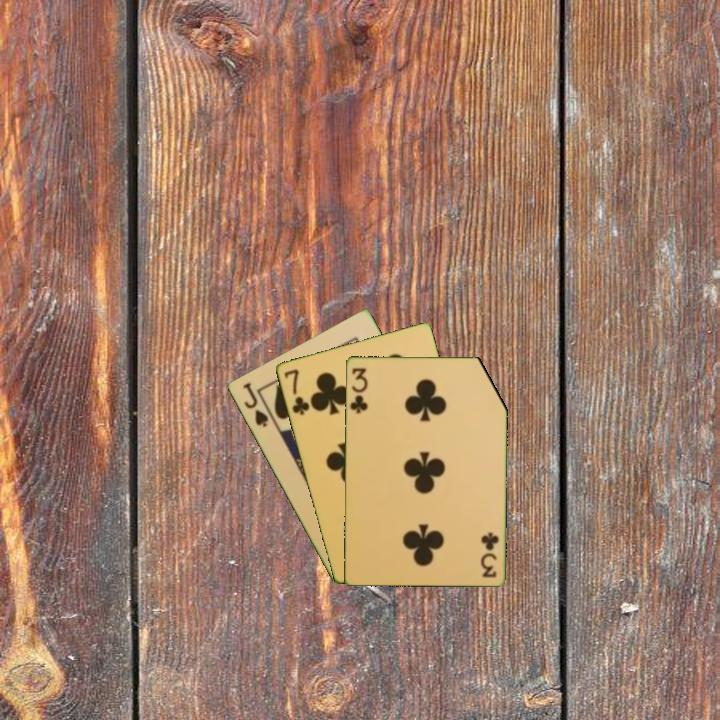3c: (346, 364, 370, 416), (479, 529, 501, 580)
7c: (280, 365, 312, 418)
Js: (239, 378, 271, 430)
